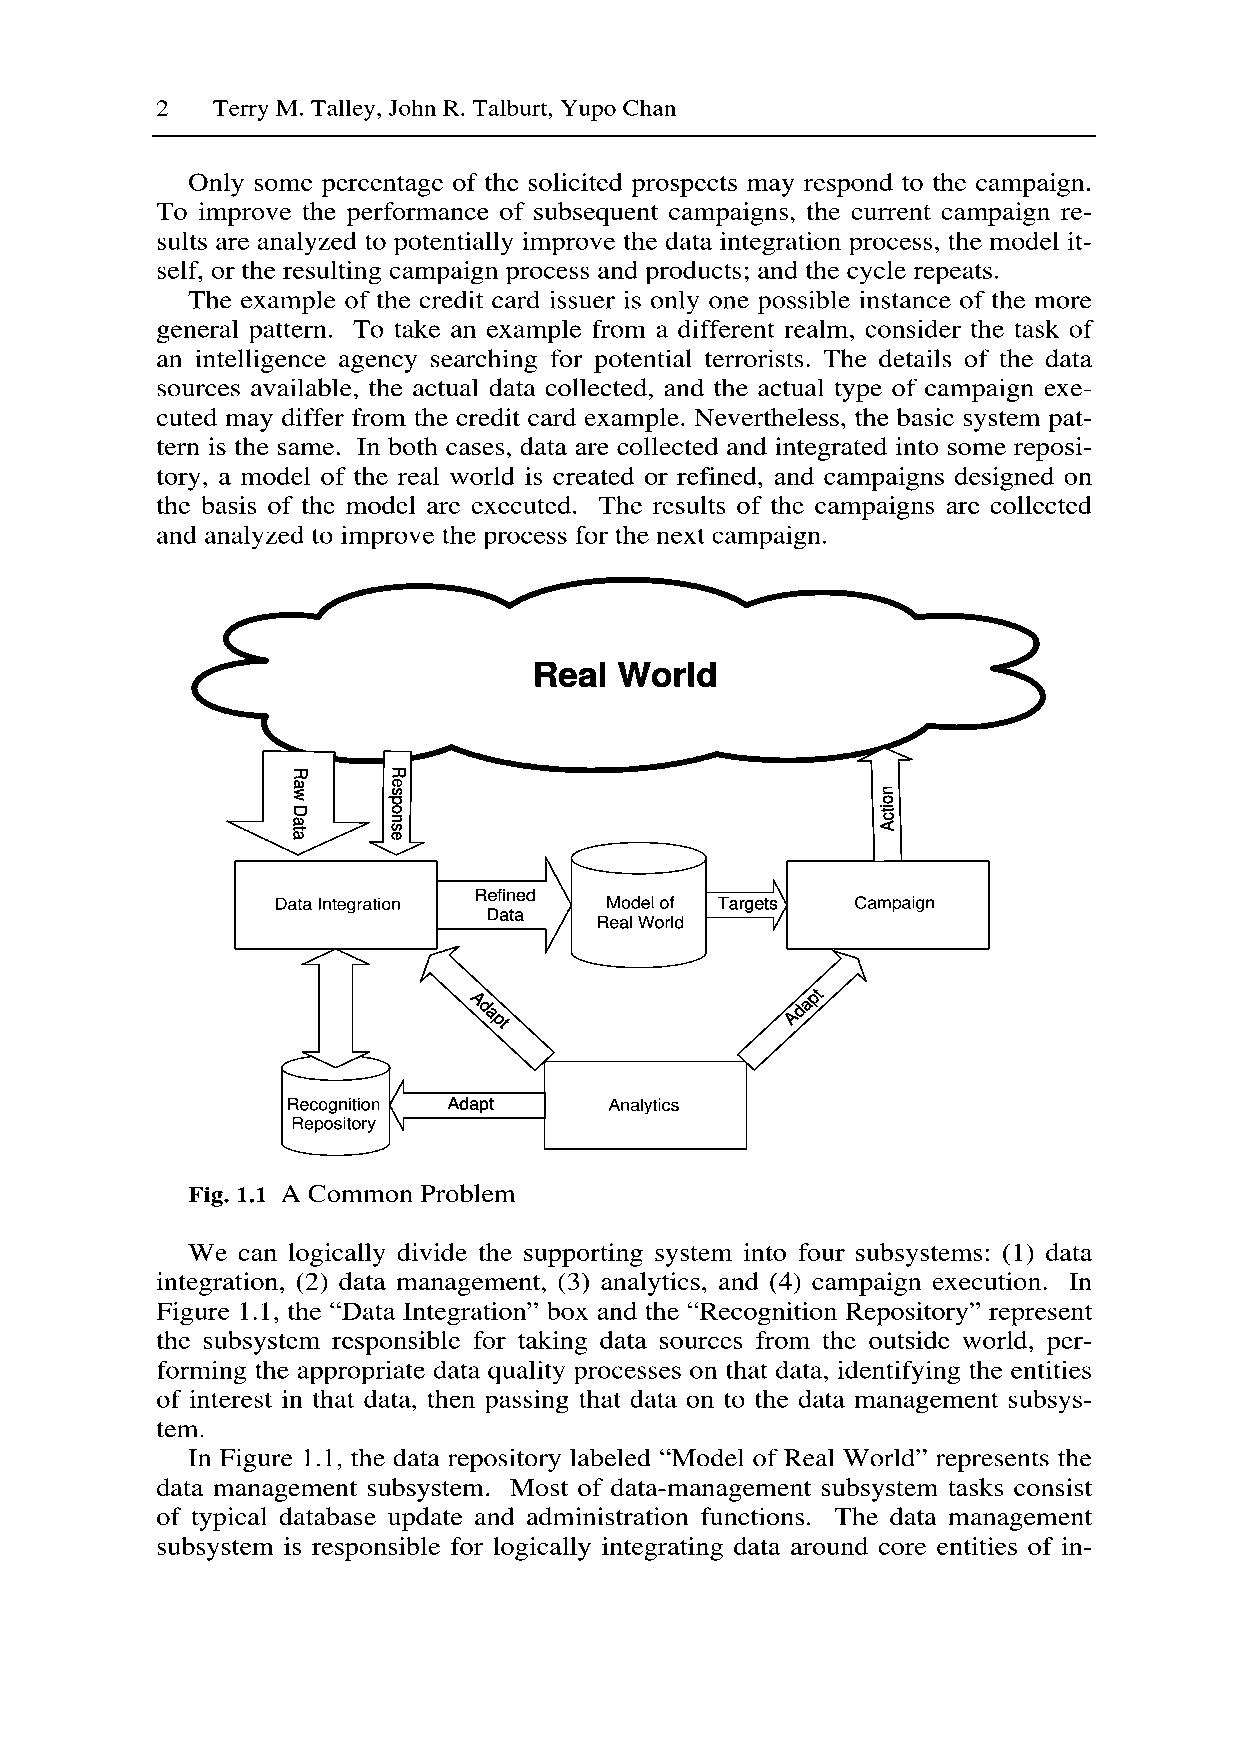content: (152, 169, 1096, 1563)
content_chapter: (208, 95, 676, 123)
content_pagenumber: (152, 95, 173, 117)
